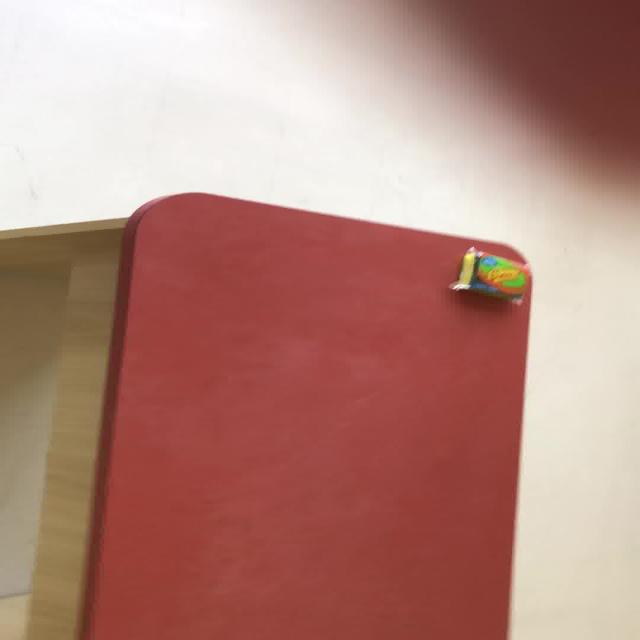sponge: (79, 191, 533, 638), (448, 246, 529, 304)
